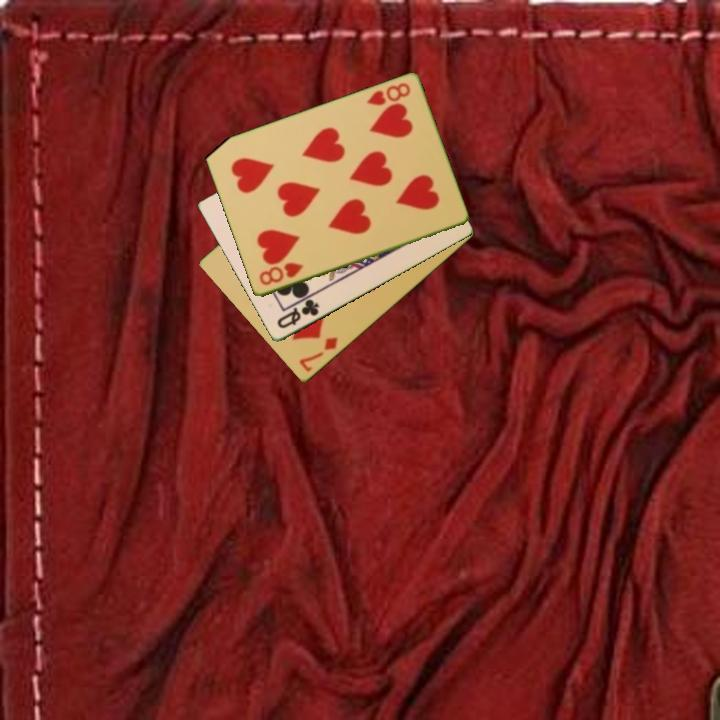7d: (296, 334, 341, 375)
8h: (256, 259, 306, 289), (363, 79, 413, 109)
Qc: (273, 296, 322, 332)
